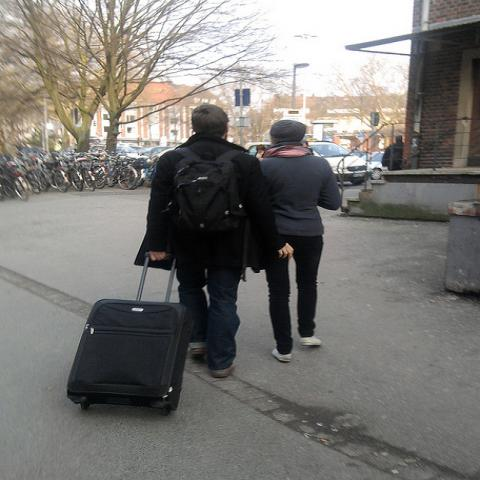car: (306, 141, 372, 186), (351, 151, 389, 180), (242, 142, 272, 157), (116, 145, 147, 159), (138, 146, 172, 158), (116, 142, 144, 150)
